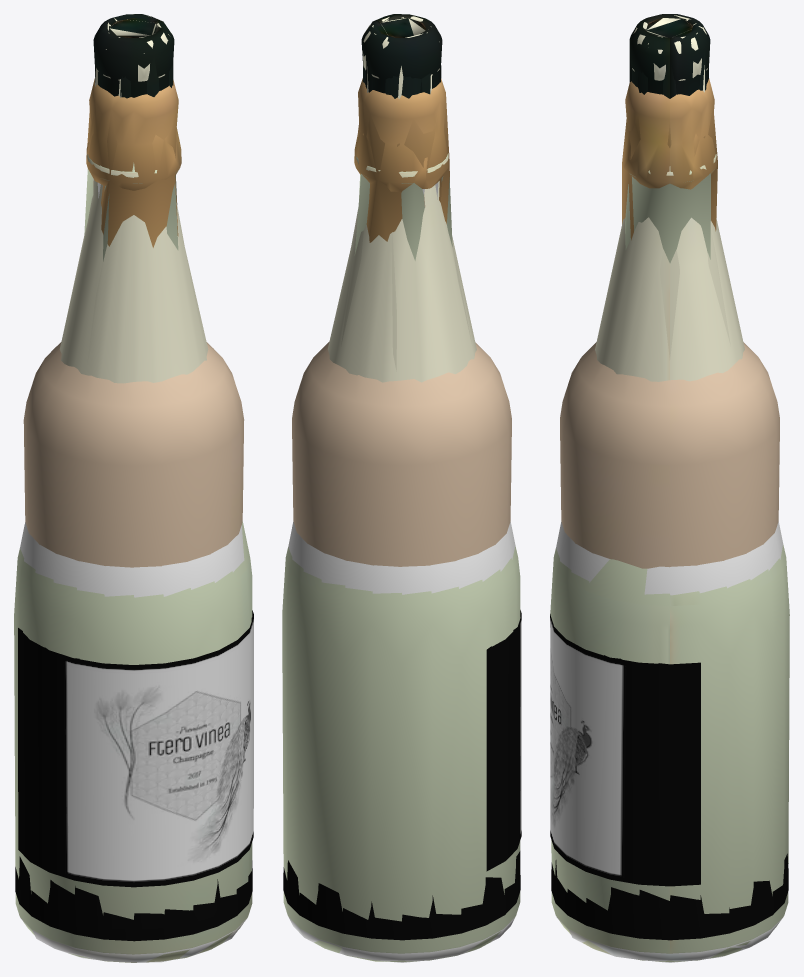
Rendered from wine_bottles_01.glb.
The picture shows the model from 3 angles, left to right: view 1: azimuth 30°, elevation 25°; view 2: azimuth 150°, elevation 25°; view 3: azimuth 270°, elevation 25°; orthographic projection.
Parts seen in each view (by area): view 1: wine_bottles_01_champagne, wine_bottles_01_bordeaux, wine_bottles_01_alsace, wine_bottles_01_burgundy, wine_bottles_01_champagne_lo, wine_bottles_01_alsace_lo, wine_bottles_01_burgundy_lo; view 2: wine_bottles_01_champagne, wine_bottles_01_bordeaux, wine_bottles_01_alsace, wine_bottles_01_burgundy, wine_bottles_01_champagne_lo, wine_bottles_01_alsace_lo; view 3: wine_bottles_01_champagne, wine_bottles_01_bordeaux, wine_bottles_01_alsace, wine_bottles_01_burgundy, wine_bottles_01_champagne_lo, wine_bottles_01_alsace_lo.
Boxes of the visible parts, x1,y1,x2,y2 form: wine_bottles_01_champagne: (14,78,253,962); wine_bottles_01_bordeaux: (23,342,243,567); wine_bottles_01_alsace: (59,14,208,383); wine_bottles_01_burgundy: (15,178,252,962); wine_bottles_01_champagne_lo: (18,102,253,951); wine_bottles_01_alsace_lo: (87,19,173,362); wine_bottles_01_burgundy_lo: (74,886,247,941); wine_bottles_01_champagne: (282,78,521,961); wine_bottles_01_bordeaux: (292,342,511,566); wine_bottles_01_alsace: (328,14,476,382); wine_bottles_01_burgundy: (283,182,520,962); wine_bottles_01_champagne_lo: (354,95,521,871); wine_bottles_01_alsace_lo: (341,18,471,371); wine_bottles_01_champagne: (550,78,789,961); wine_bottles_01_bordeaux: (560,342,779,568); wine_bottles_01_alsace: (595,14,744,381); wine_bottles_01_burgundy: (551,521,788,962); wine_bottles_01_champagne_lo: (566,105,717,879); wine_bottles_01_alsace_lo: (629,18,730,360).
Bounding box in the file's own units: 0.0805 × 0.3314 × 0.0805.
9 materials, 6 textured.
